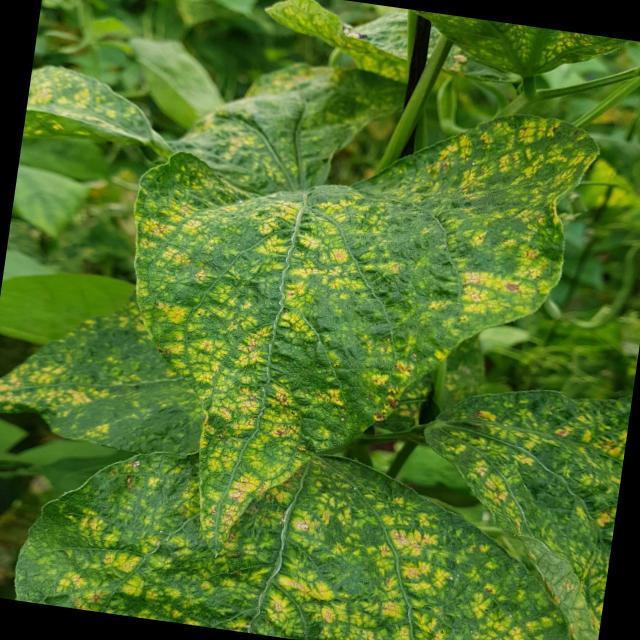Mosaic Virus: (95, 151, 468, 528), (18, 429, 567, 640), (360, 95, 588, 334), (416, 362, 634, 596)
